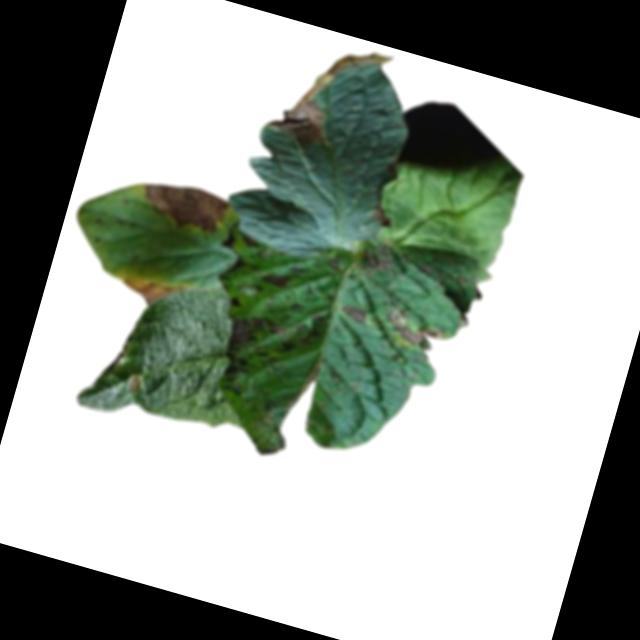Early_blight: (271, 28, 397, 163), (214, 307, 302, 405), (137, 176, 232, 242), (378, 303, 446, 357), (118, 270, 185, 315), (353, 239, 396, 284), (221, 218, 263, 260), (365, 204, 394, 230), (261, 269, 292, 291), (339, 303, 366, 323), (124, 371, 145, 394), (225, 293, 243, 309)
